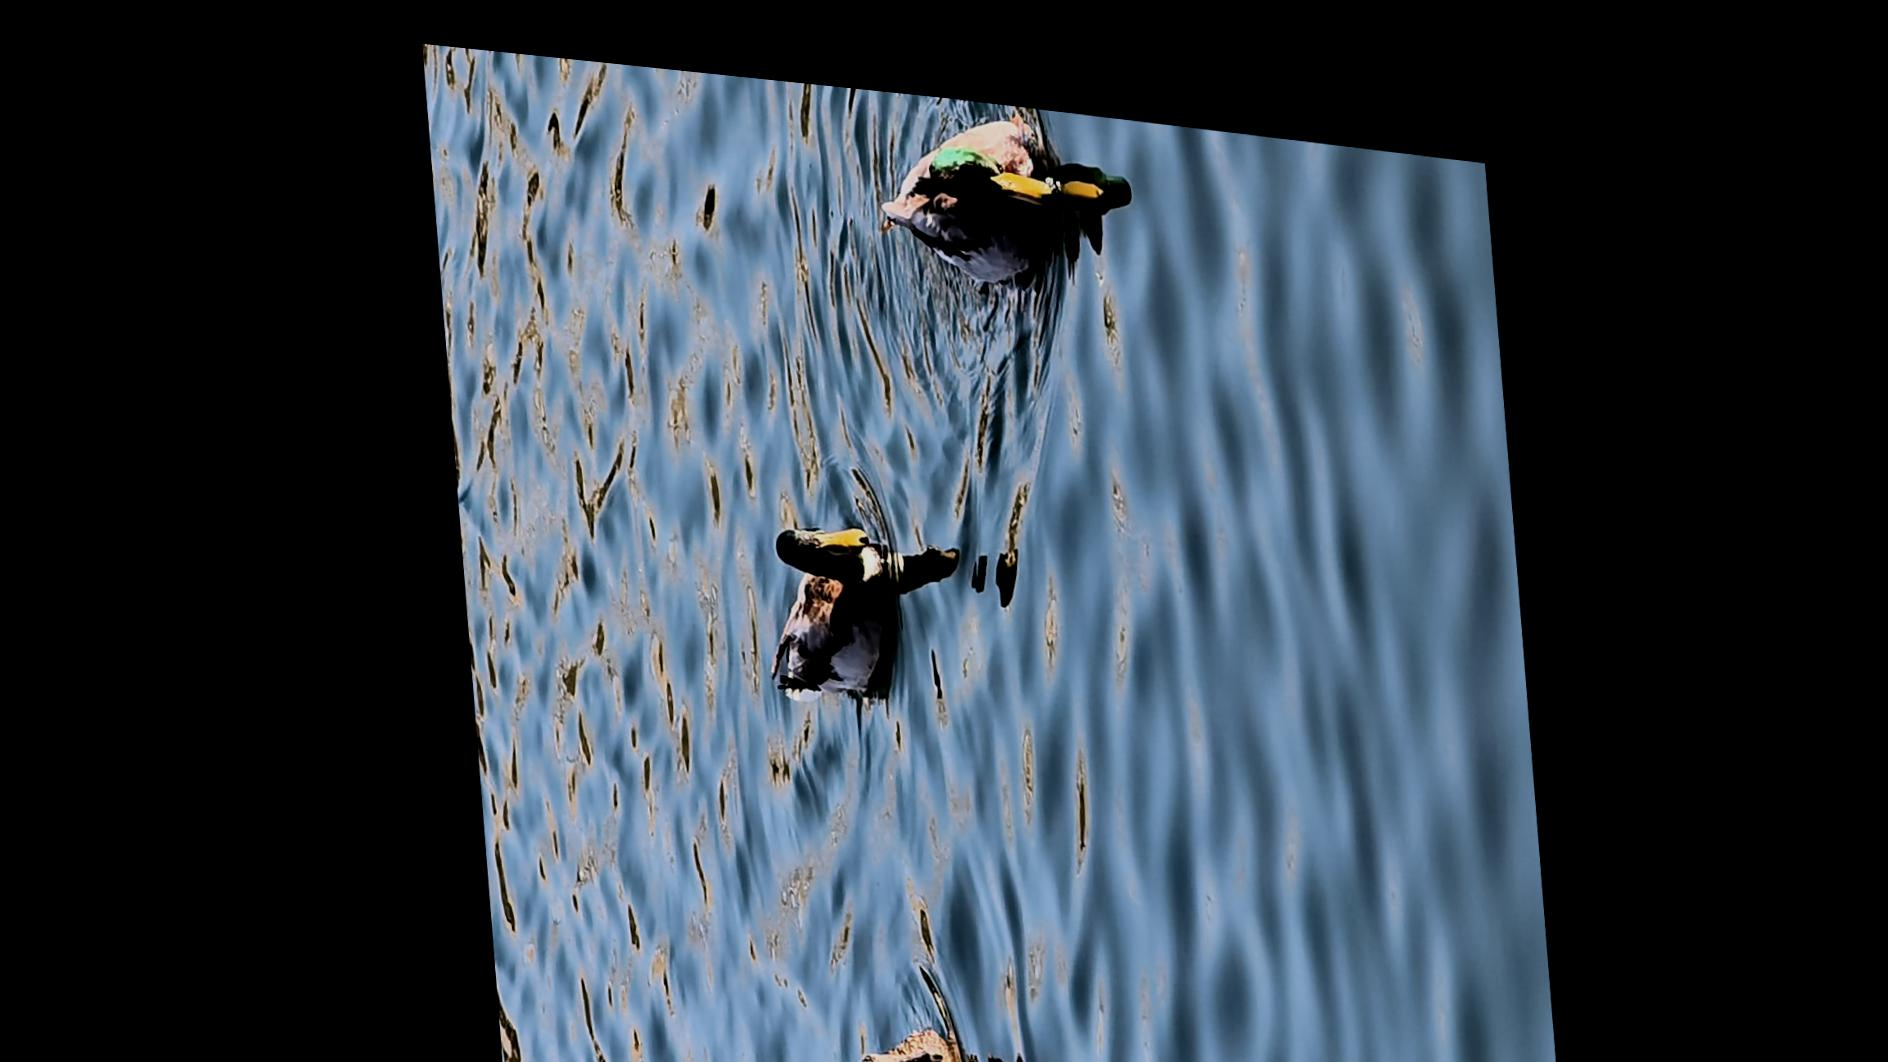duck: (871, 81, 1071, 267), (746, 505, 895, 695), (820, 1004, 952, 1062)
